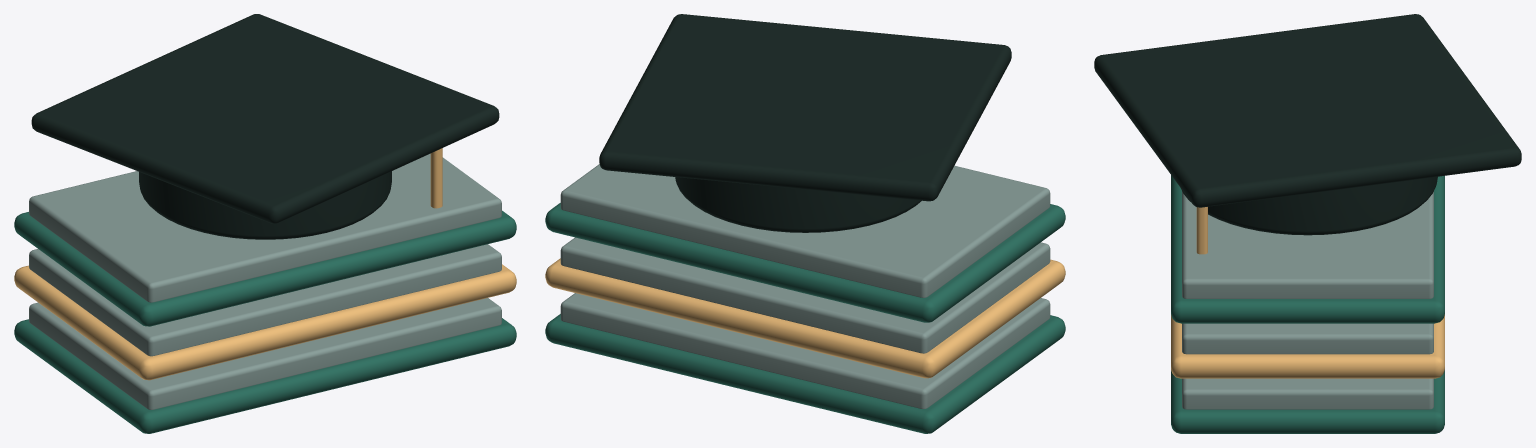
The model's file is college.glb.
3 renders of one model, left to right at view 1: azimuth 30°, elevation 25°; view 2: azimuth 150°, elevation 25°; view 3: azimuth 270°, elevation 25°, orthographic. The views are drawn at different scales.
Parts seen in each view (by area): view 1: Graduation cap, Book pages.002, Book pages.001, Book pages, Book cover.001, Book cover, Book cover.002, Mortarboard base, Gold tassel; view 2: Graduation cap, Book pages.002, Book pages.001, Book pages, Book cover.002, Book cover, Book cover.001, Mortarboard base; view 3: Graduation cap, Book pages.002, Book cover.002, Book pages, Book pages.001, Mortarboard base, Book cover.001, Book cover, Gold tassel.
Boxes of the visible parts, box(x1,y1,x2,y2) form: Graduation cap: box(31, 14, 499, 223); Book pages.002: box(29, 153, 501, 302); Book pages.001: box(29, 244, 501, 356); Book pages: box(29, 298, 501, 409); Book cover.001: box(14, 264, 516, 380); Book cover: box(14, 318, 516, 433); Book cover.002: box(14, 210, 516, 326); Mortarboard base: box(139, 171, 391, 239); Gold tassel: box(430, 148, 442, 208); Graduation cap: box(599, 14, 1011, 201); Book pages.002: box(560, 164, 1050, 297); Book pages.001: box(560, 237, 1050, 353); Book pages: box(560, 293, 1050, 409); Book cover.002: box(545, 203, 1065, 322); Book cover: box(545, 314, 1065, 433); Book cover.001: box(545, 258, 1065, 378); Mortarboard base: box(675, 177, 921, 232); Graduation cap: box(1094, 14, 1521, 207); Book pages.002: box(1182, 191, 1433, 298); Book cover.002: box(1171, 175, 1444, 323); Book pages: box(1182, 378, 1433, 409); Book pages.001: box(1182, 323, 1433, 354); Mortarboard base: box(1181, 176, 1437, 235); Book cover.001: box(1171, 314, 1444, 378); Book cover: box(1171, 370, 1444, 433); Gold tassel: box(1196, 207, 1207, 254).
Bounding box in the file's own units: 2.2 × 1.31 × 2.1.
